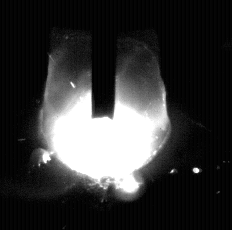arame: (92, 0, 117, 120)
poca: (38, 0, 173, 230)
